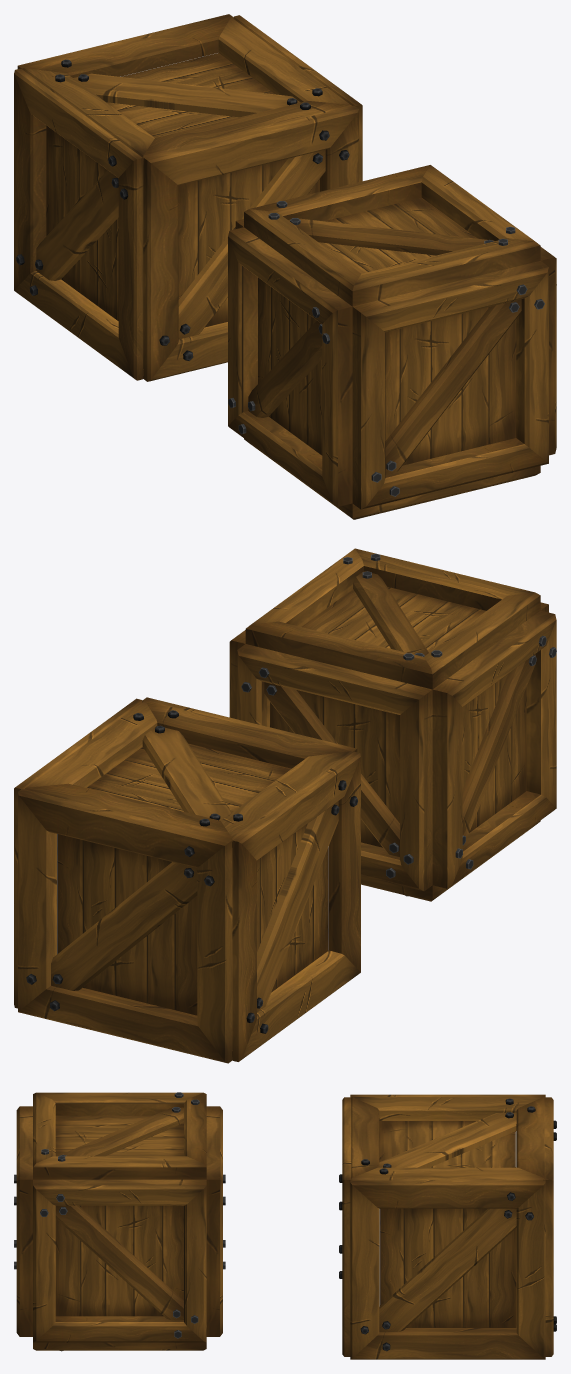
3 views of the same model, one above another, from view 1: azimuth 30°, elevation 25°; view 2: azimuth 150°, elevation 25°; view 3: azimuth 270°, elevation 25° (orthographic). The views are drawn at different scales.
Visible parts, largest first — view 1: Crate02, Crate01; view 2: Crate01, Crate02; view 3: Crate01, Crate02.
Boxes of the visible parts, x1,y1,x2,y2 form: Crate02: (228,165,556,519); Crate01: (14,14,362,381); Crate01: (14,697,360,1063); Crate02: (229,548,556,901); Crate01: (339,1094,556,1359); Crate02: (14,1092,225,1351).
Bounding box in the file's own units: 0.8235 × 0.7993 × 2.05.
Materials: 2 (2 with a texture image).
